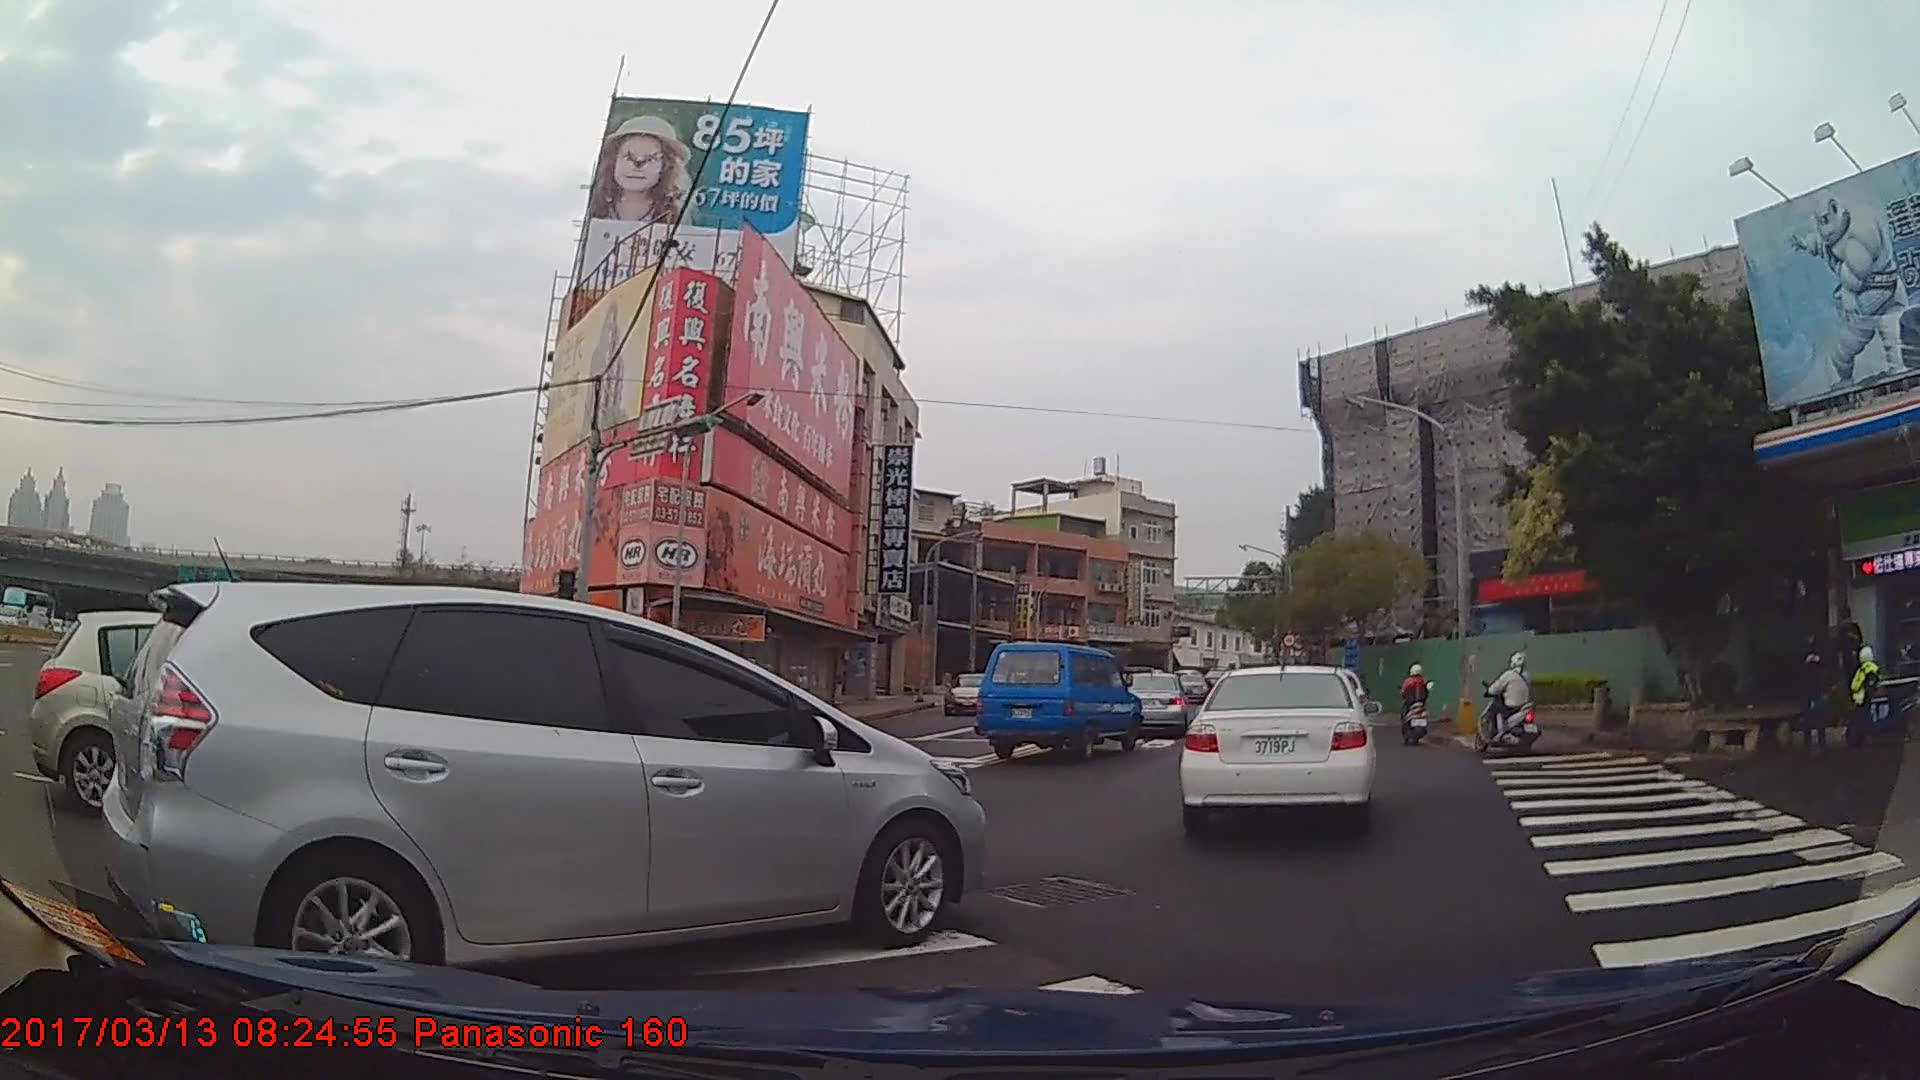pedestrian: (1791, 627, 1836, 751), (1822, 604, 1861, 712)
rider: (1478, 650, 1541, 752), (1402, 661, 1432, 744)
vehicle: (99, 580, 992, 997), (1180, 666, 1375, 843), (974, 643, 1142, 762), (1113, 667, 1188, 735), (943, 669, 999, 716)
